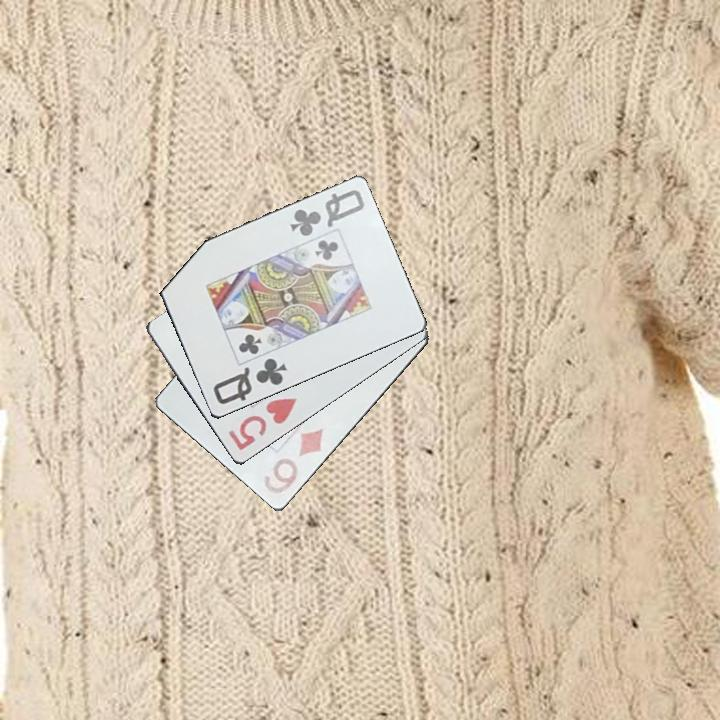5h: (224, 394, 300, 454)
6d: (260, 425, 326, 498)
Qc: (286, 186, 367, 240), (209, 355, 290, 408)
